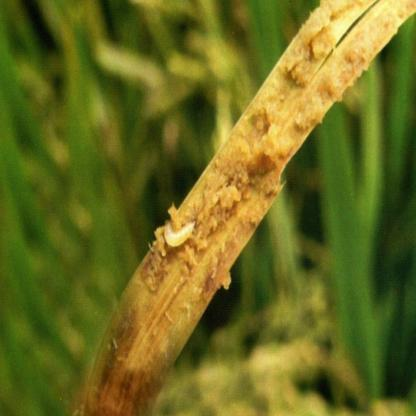whorl-maggot: (160, 212, 202, 250)
